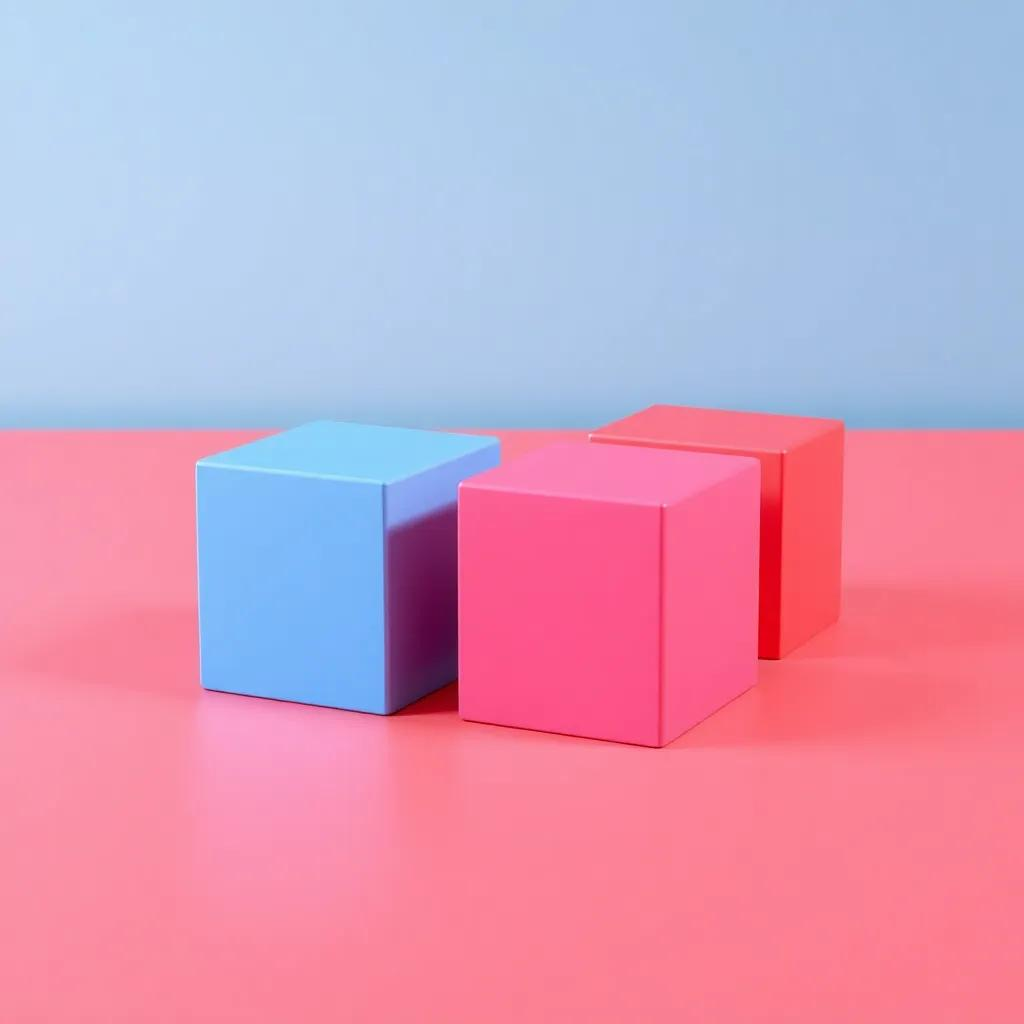cube: (455, 438, 762, 748), (193, 417, 500, 715), (587, 401, 845, 660)
